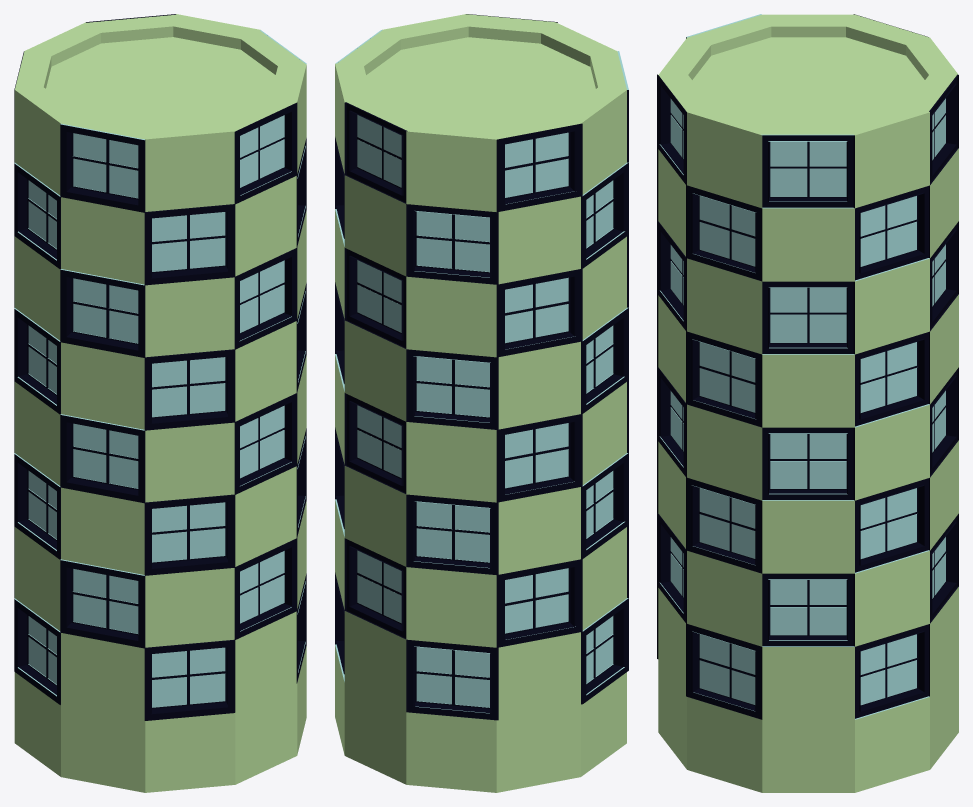
File: Circle Green.fbx
3 views of the same model, side by side, from view 1: azimuth 30°, elevation 25°; view 2: azimuth 150°, elevation 25°; view 3: azimuth 270°, elevation 25° (orthographic).
Visible parts, largest first — view 1: Cylinder.001; view 2: Cylinder.001; view 3: Cylinder.001.
Part boxes in pixels (box(x1,y1,x2,y2)): Cylinder.001: box(14, 14, 306, 792); Cylinder.001: box(335, 14, 628, 792); Cylinder.001: box(657, 14, 958, 792).
Bounding box in the file's own units: 1689 × 4266 × 1774.
